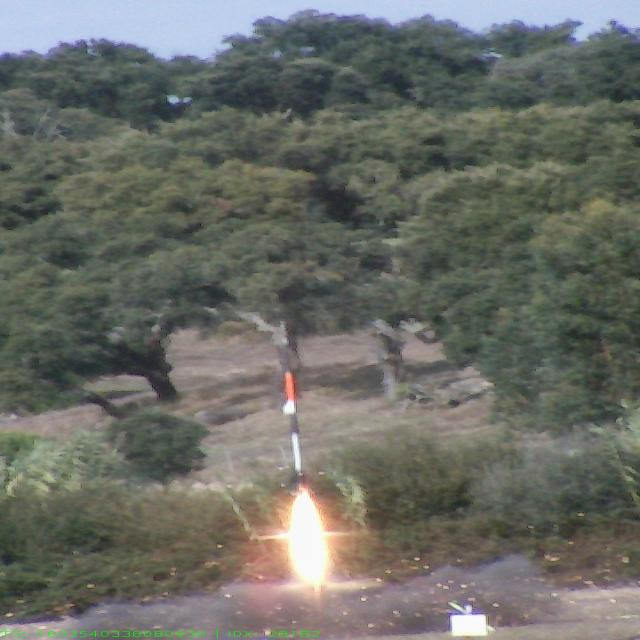Rocket: (280, 371, 309, 482)
